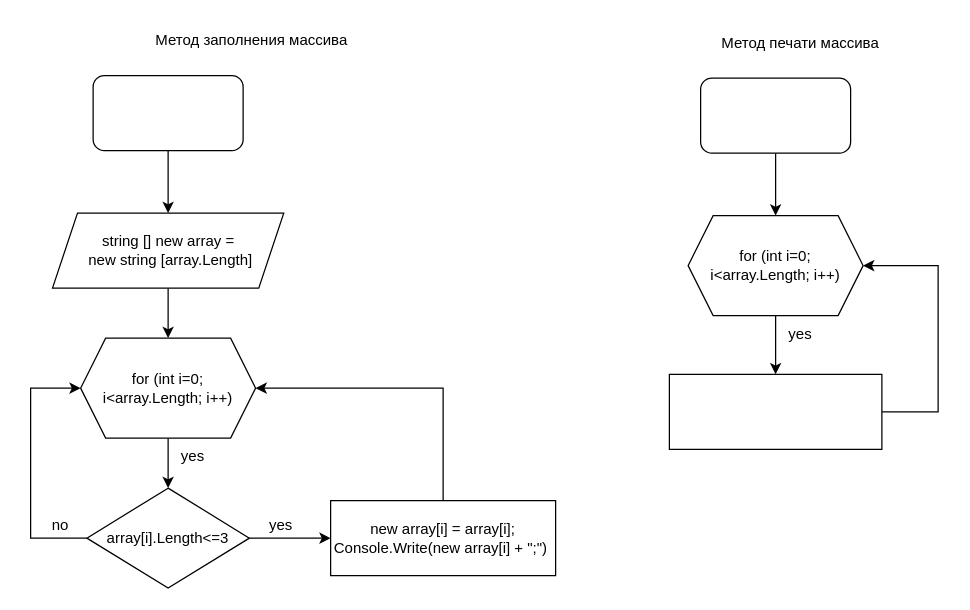
This 970x610 diagram has some shape labels left out. The shapes that lost their labels are listed below. From the top down, each one's centre as x and y in pixels, then its label:
[167,112]: NewArray
[775,115]: PrintArray
[775,411]: Console.Write(Array[i] + ";")
